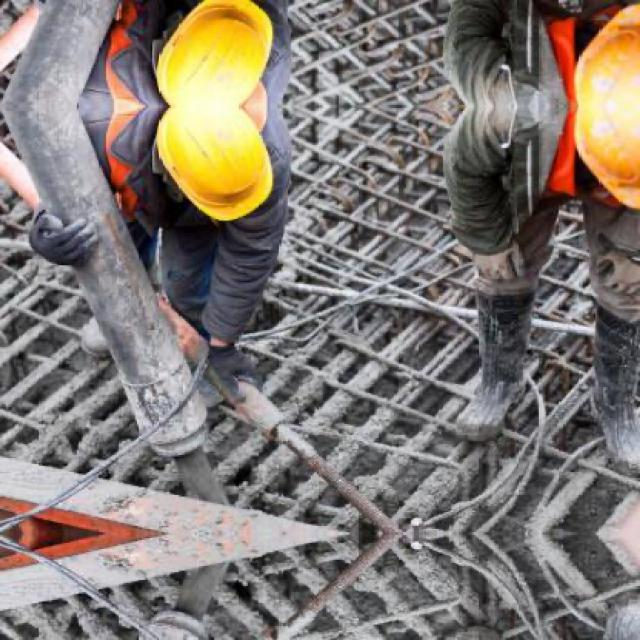helmet: (143, 108, 280, 234), (144, 0, 282, 106), (555, 108, 640, 234), (555, 0, 640, 105)
